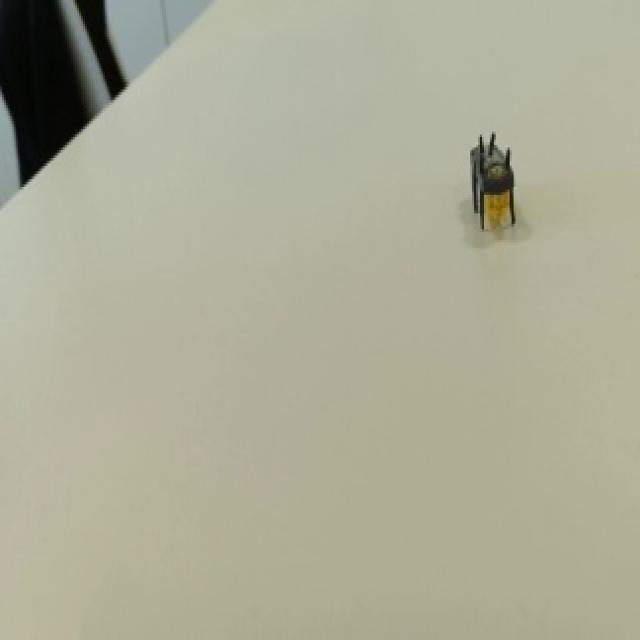6_NanoBug_GrisOscuro: (435, 116, 555, 269)
